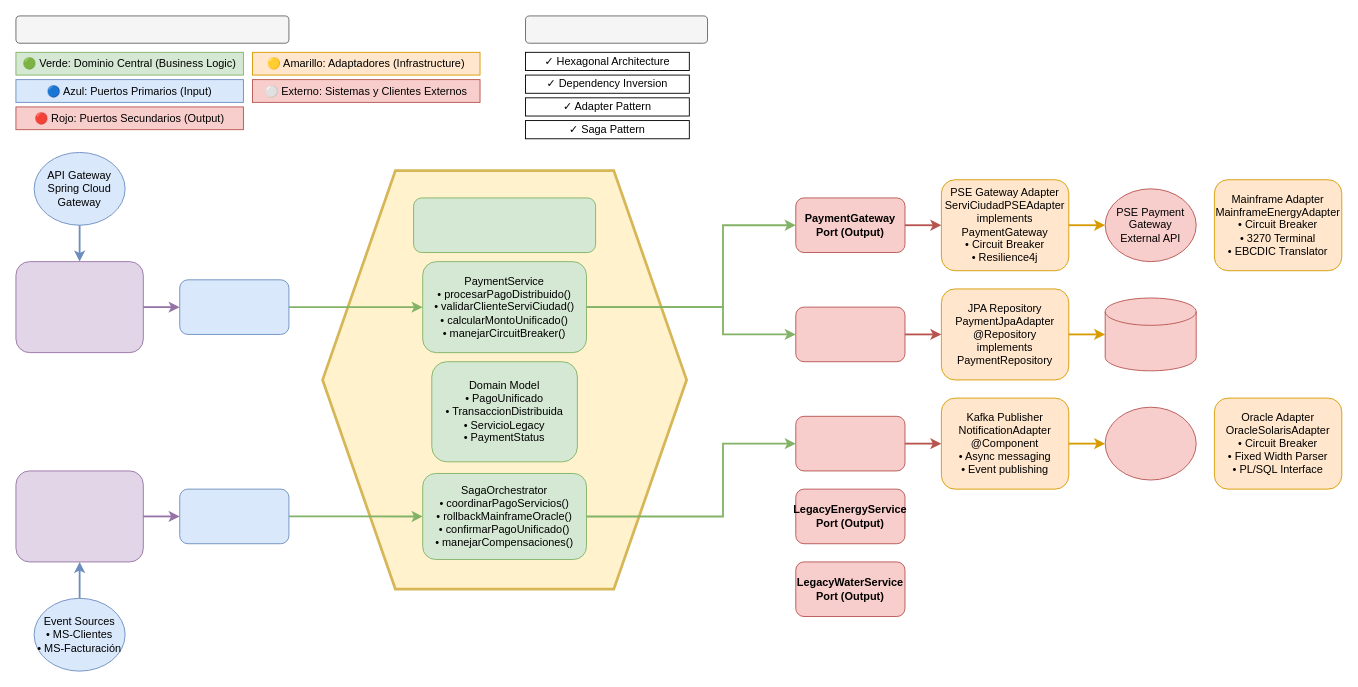
The diagram is 1358 pixels wide and 687 high, and some of its shapes have lost their labels. The centre of each missing label's shape, as x and y in pixels:
Apache Kafka Message Broker payment-events: the point at 1150,443
DOMAIN CORE MS-PAGOS: the point at 504,225
EventHandler Port (Input): the point at 234,516
Kafka Listener PaymentEventListener @KafkaListener (topics = 'payment-events'): the point at 79,516
LEYENDA - ARQUITECTURA HEXAGONAL: the point at 152,29
NotificationService Port (Output): the point at 850,443
PATRONES APLICADOS: the point at 616,29
PaymentAPI Port (Input): the point at 234,306
PaymentRepository Port (Output): the point at 850,334
PostgreSQL Database payments_db: the point at 1150,334
REST Controller PaymentController @RestController @PostMapping(/pagos): the point at 79,307
